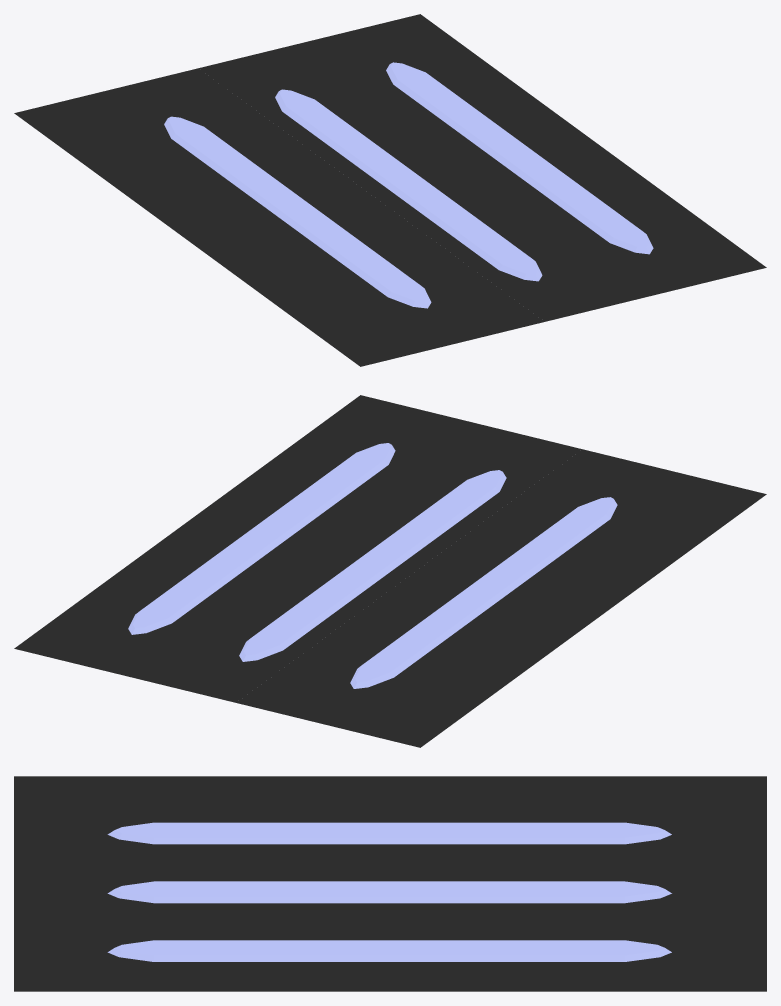
File: light.glb
3 renders of one model, top to bottom at view 1: azimuth 30°, elevation 25°; view 2: azimuth 150°, elevation 25°; view 3: azimuth 270°, elevation 25°, orthographic. The views are drawn at different scales.
Visible parts, largest first — view 1: Plane; view 2: Plane; view 3: Plane.
Part boxes in pixels (x1,y1,x2,y2): Plane: (14,14,766,366); Plane: (14,395,766,747); Plane: (14,776,766,991).
Size of the model in its own units: 2.71 by 0.0269 by 4.
